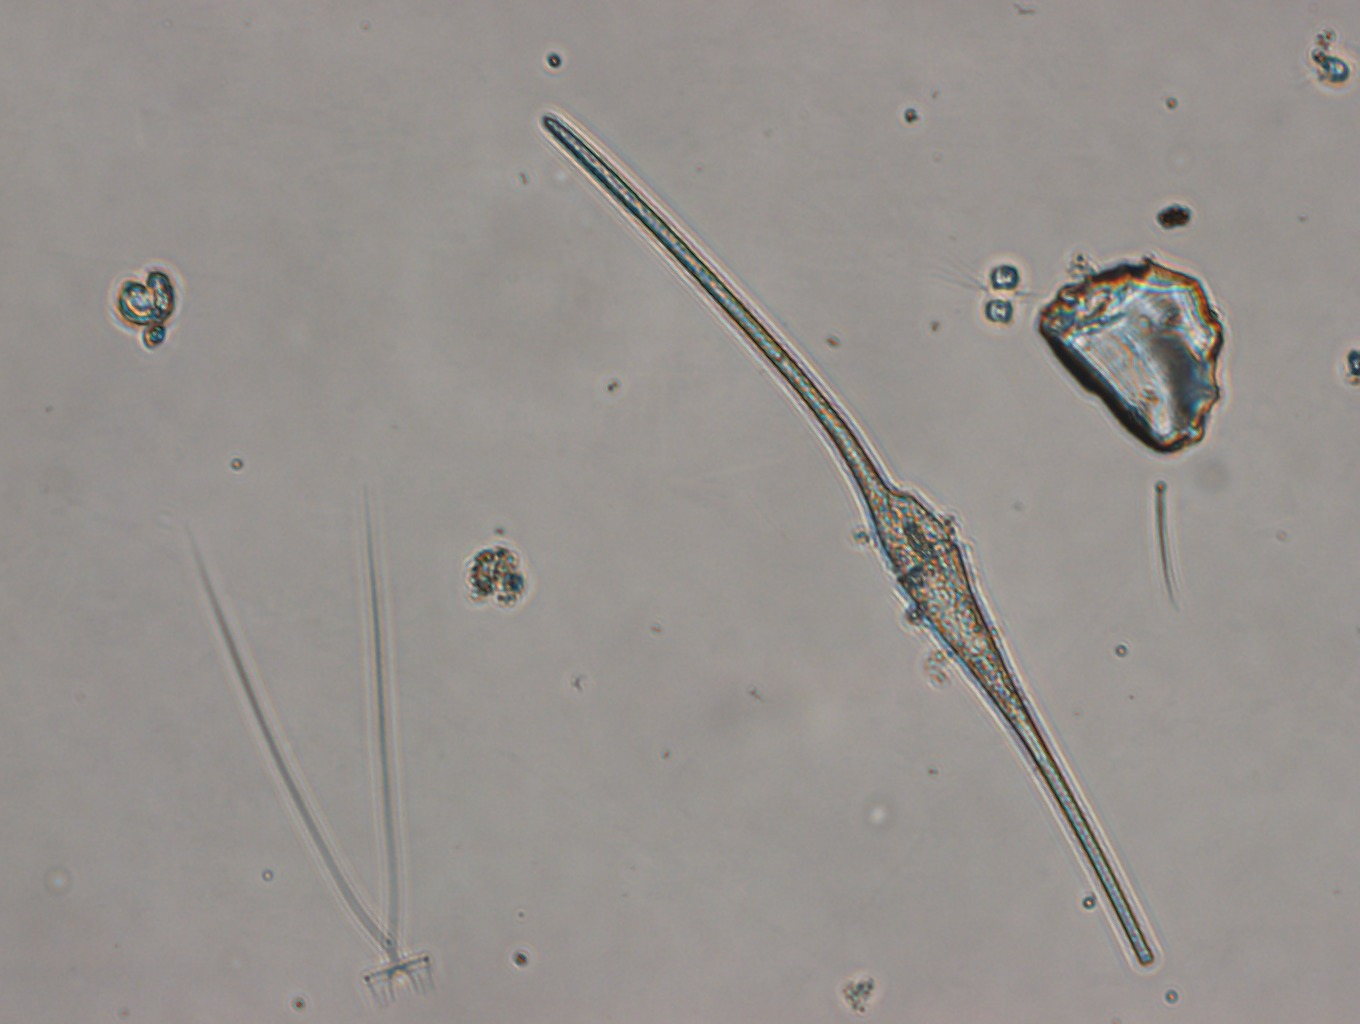ceratium fusus: (535, 108, 1158, 969)
